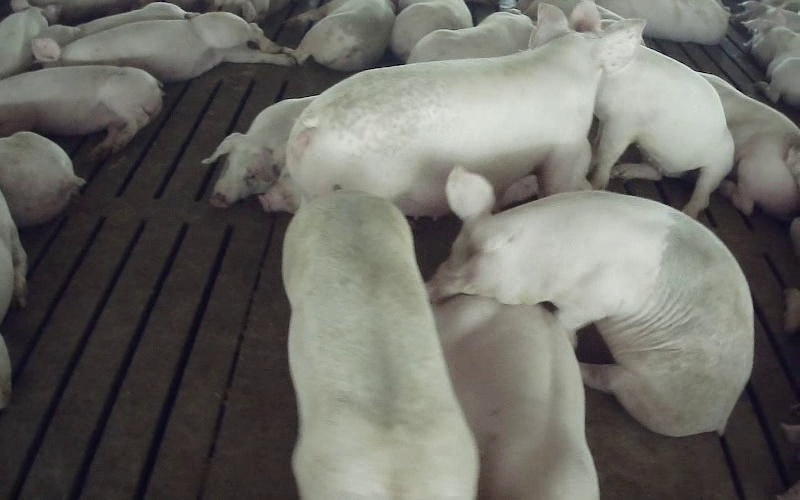pig: (429, 168, 752, 435), (286, 5, 642, 215), (283, 192, 477, 499), (433, 295, 598, 499), (591, 46, 733, 217), (32, 12, 294, 81), (0, 66, 161, 155), (704, 74, 799, 217), (202, 97, 314, 207), (0, 132, 85, 226), (287, 0, 394, 71), (39, 2, 195, 45), (407, 9, 533, 62), (390, 0, 472, 60), (0, 0, 59, 78)
